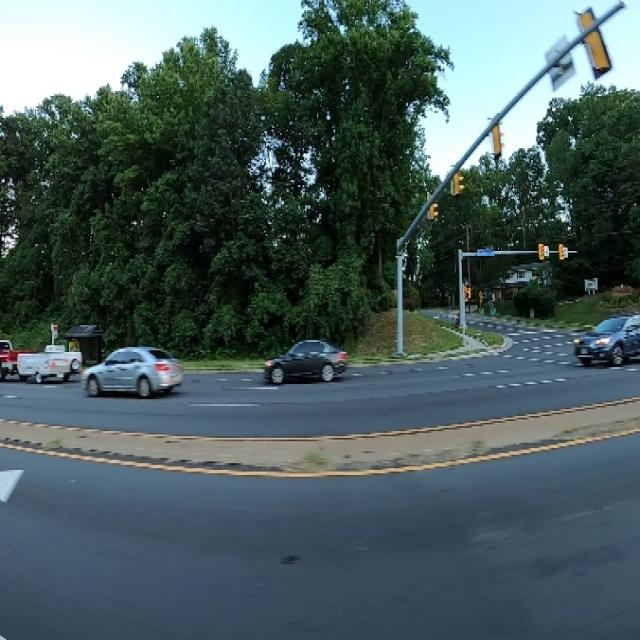car: (81, 335, 184, 406), (259, 330, 351, 391), (569, 302, 640, 378), (13, 333, 84, 391)
